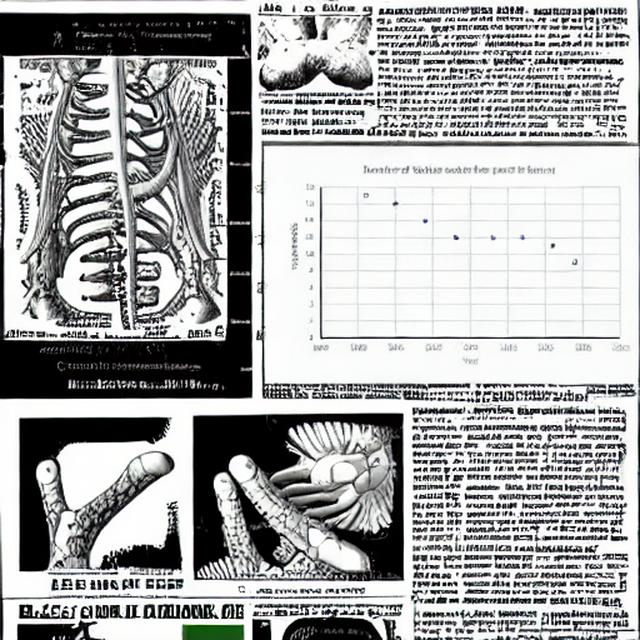Graph: (282, 158, 638, 375)
